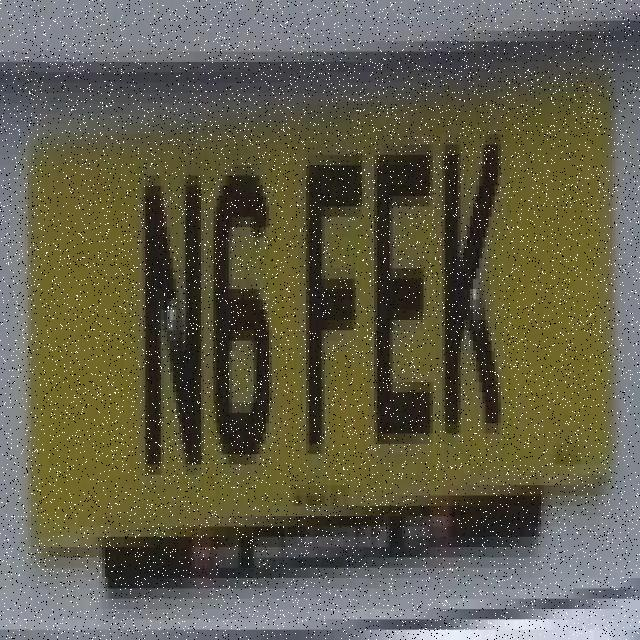licenseplate: (13, 74, 626, 558)
